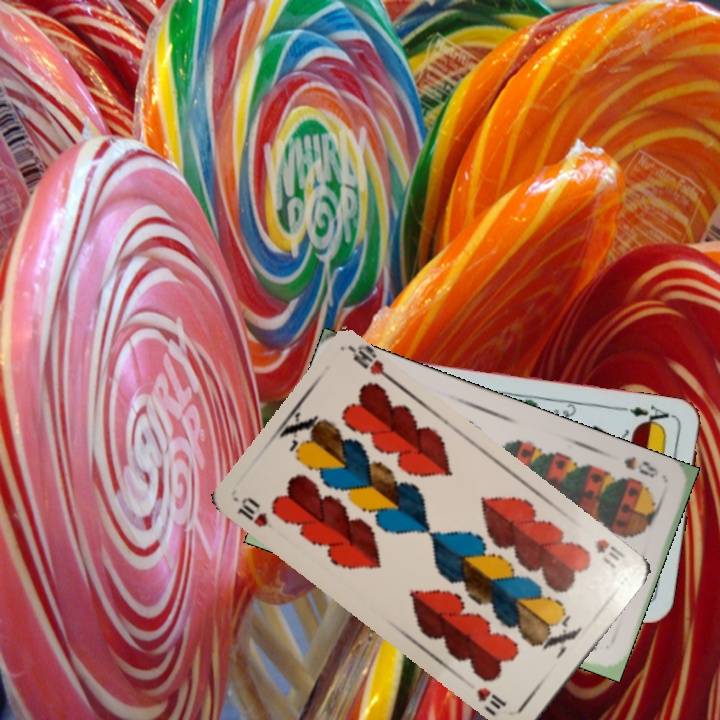EA: (617, 401, 677, 430)
H10: (232, 493, 270, 530), (591, 535, 628, 571)
S8: (619, 452, 661, 481)
